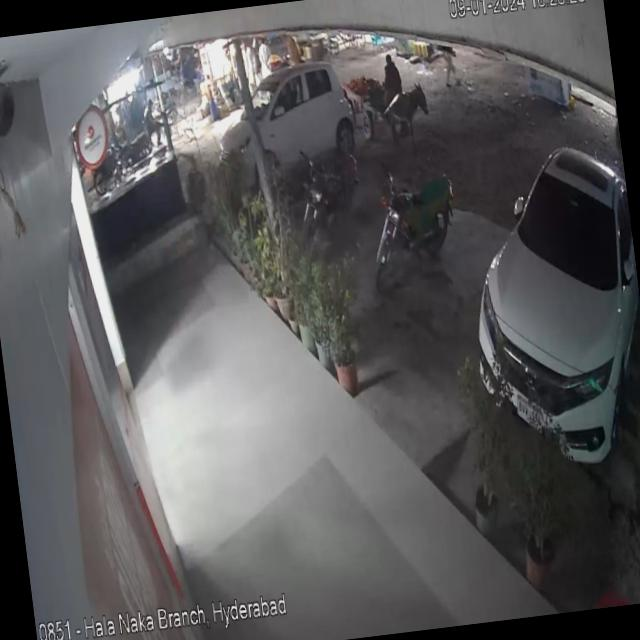Car: (451, 121, 640, 494), (210, 58, 378, 198)
Motorcycle: (347, 152, 466, 296), (282, 133, 366, 252)
